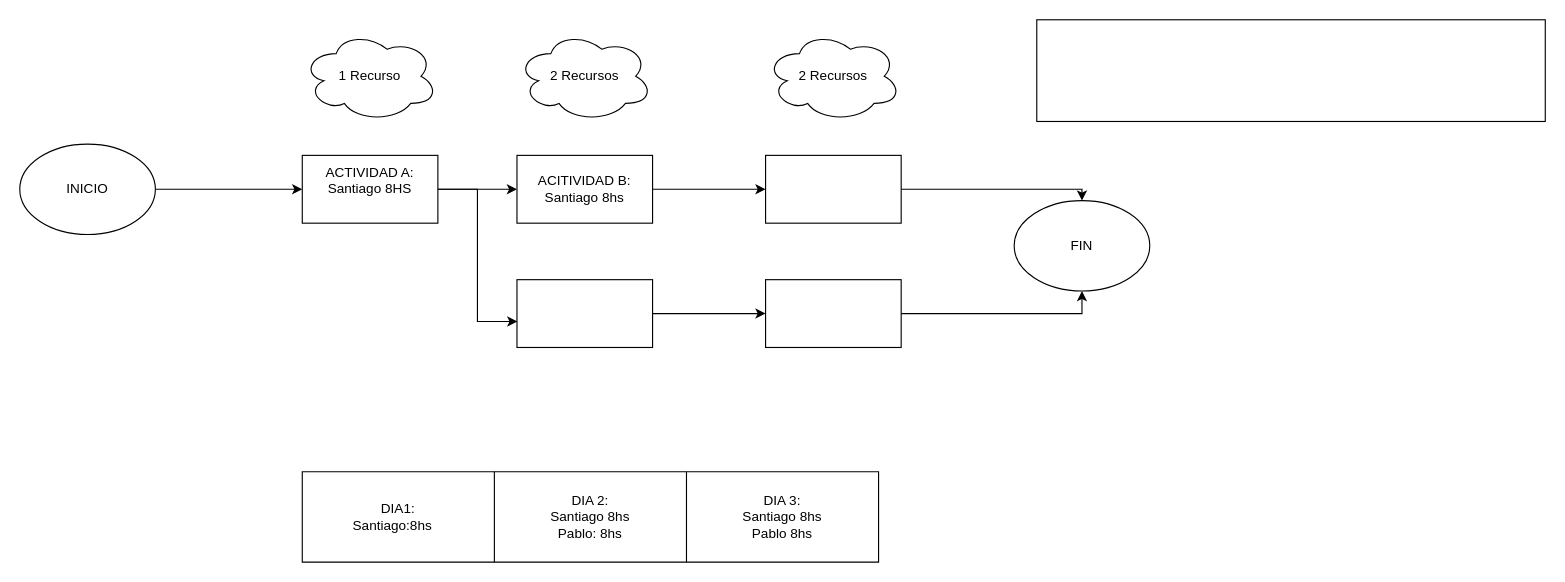
Some shapes in this 1565 by 582 pixel diagram are drawn without their labels. The shapes that lost their labels are listed below. From the top down, each one's centre as x and y in pixels, then its label:
At (x=1290, y=70): "1 RECURSO = PERSONA QUE TRABAJA 8 HORAS".
At (x=832, y=188): "ACTIVIDAD C: Santiago 8hs".
At (x=584, y=313): "ACITIVIDAD B: Pablo 8hs".
At (x=832, y=313): "ACTIVIDAD C: Pablo 8hs".
